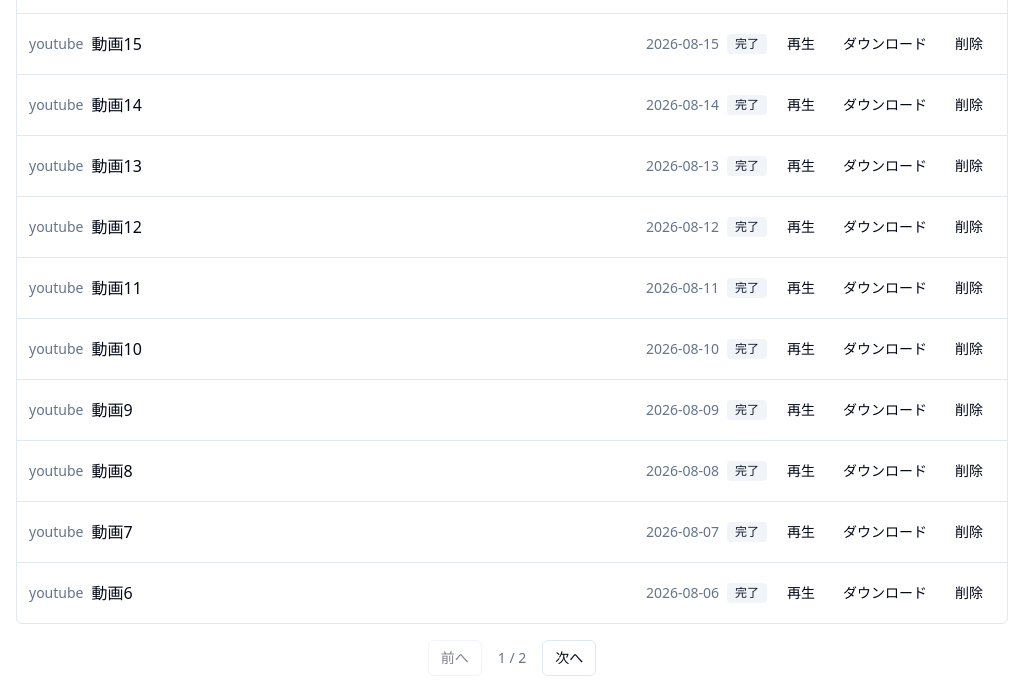
Test case: VideoCatalog 結合（/videos / FR2.1〜2.4・FR8・US2.1〜2.5） › ページ送りで次ページの行を表示する（US2.4 / FR2.4）
The image size is (1024, 692).
(page scrolled)
Expected: the navigation bar named "ページ送り" shows "1 / 2", [428,640,596,676]
Click the button with aria-label "次のページ" at (569, 658), box [542,640,596,676]
(page scrolled)
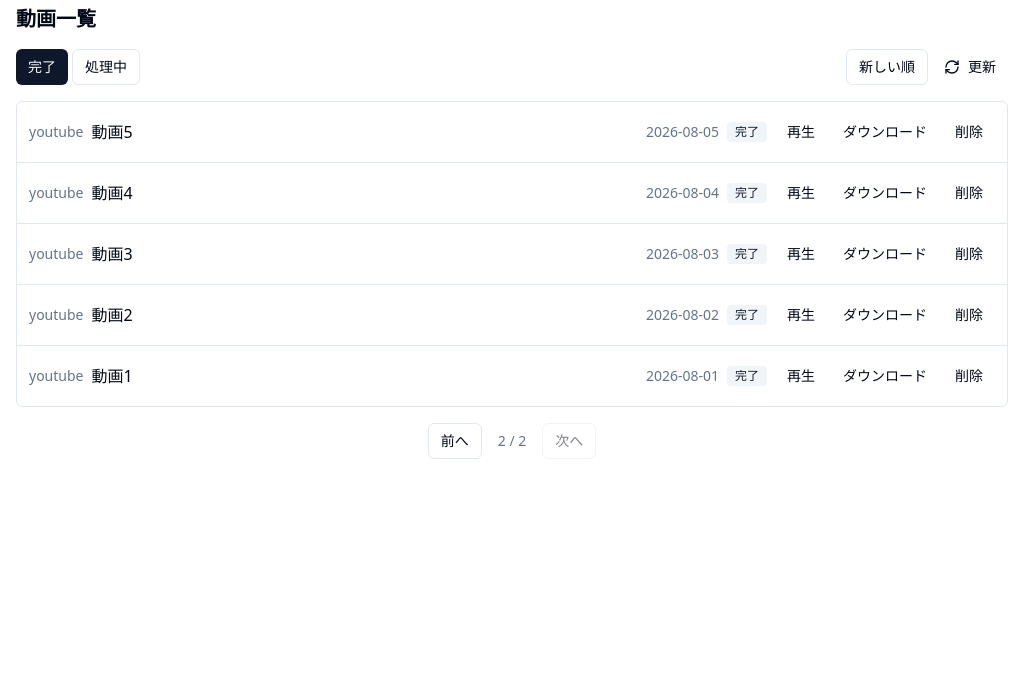
Expected: the navigation bar named "ページ送り" shows "2 / 2", [428,423,596,459]
Expected: the number of list items is 5, [17,102,1007,163]; [17,163,1007,224]; [17,224,1007,285]; [17,285,1007,346]; [17,346,1007,406]
